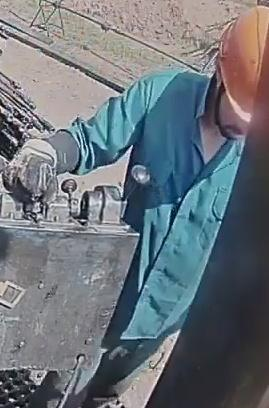gloves: (1, 135, 63, 205)
helmet: (217, 4, 268, 115)
vest: (114, 73, 261, 354)
